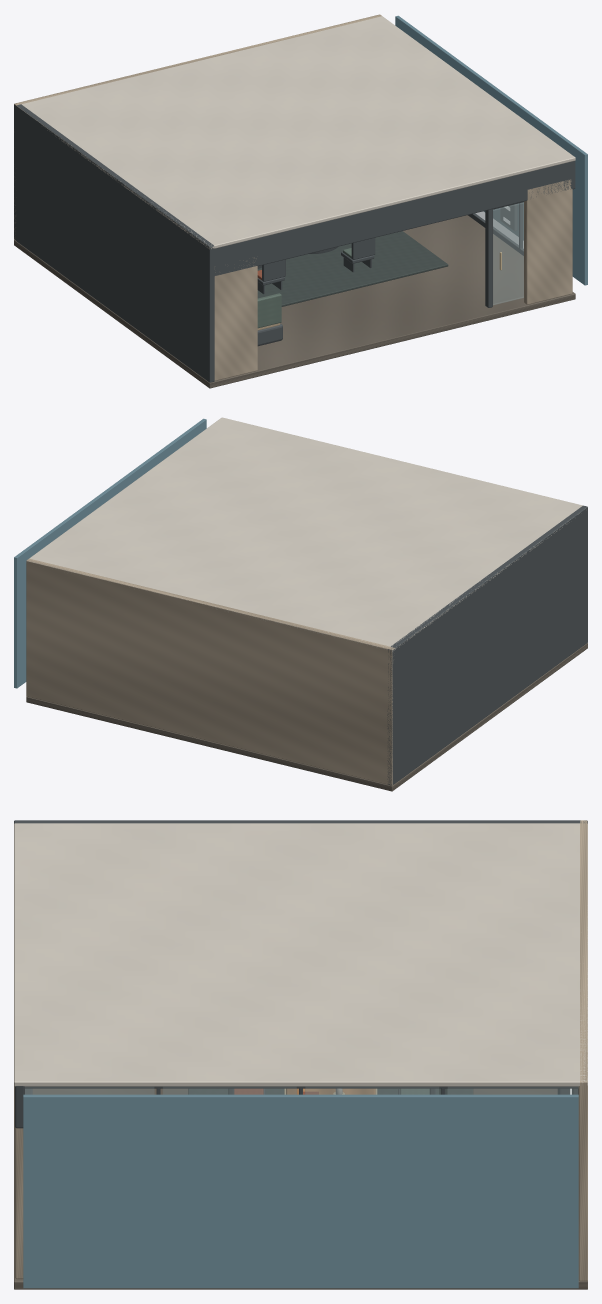
The picture shows the model from 3 angles, top to bottom: view 1: azimuth 30°, elevation 25°; view 2: azimuth 150°, elevation 25°; view 3: azimuth 270°, elevation 25°; orthographic projection. The views are drawn at different scales.
Parts seen in each view (by area): view 1: MeetingV2_Ceiling, MeetingV2_LeftWall, MeetingV2_Floor, MeetingV2_FrontLintel, MeetingV2_Rug, MeetingV2_FrontRightPier, MeetingV2_ExteriorCity, MeetingV2_FrontLeftPier, MeetingV2_Door, MeetingV2_WindowWall, MeetingV2_Bench, MeetingV2_BackWall (+3 smaller); view 2: MeetingV2_Ceiling, MeetingV2_BackWall, MeetingV2_LeftWall, MeetingV2_ExteriorCity, MeetingV2_Floor; view 3: MeetingV2_Ceiling, MeetingV2_ExteriorCity, MeetingV2_WindowWall, MeetingV2_BackWall, MeetingV2_Floor, MeetingV2_LeftWall, MeetingV2_FrontRightPier, MeetingV2_Rug.
Part boxes in pixels (x1,y1,x2,y2): MeetingV2_Ceiling: (17, 16, 575, 249); MeetingV2_LeftWall: (14, 104, 214, 382); MeetingV2_Floor: (14, 215, 575, 388); MeetingV2_FrontLintel: (206, 161, 575, 275); MeetingV2_Rug: (257, 231, 448, 306); MeetingV2_FrontRightPier: (524, 179, 572, 304); MeetingV2_ExteriorCity: (395, 15, 587, 285); MeetingV2_FrontLeftPier: (214, 257, 257, 380); MeetingV2_Door: (493, 202, 523, 305); MeetingV2_WindowWall: (468, 202, 523, 255); MeetingV2_Bench: (257, 293, 282, 346); MeetingV2_BackWall: (14, 14, 381, 240); MeetingV2_Ceiling: (26, 417, 582, 651); MeetingV2_BackWall: (26, 558, 394, 785); MeetingV2_LeftWall: (387, 505, 587, 785); MeetingV2_ExteriorCity: (14, 418, 206, 688); MeetingV2_Floor: (26, 643, 587, 791); MeetingV2_Ceiling: (14, 823, 587, 1086); MeetingV2_ExteriorCity: (23, 1094, 578, 1288); MeetingV2_WindowWall: (25, 1086, 578, 1094); MeetingV2_BackWall: (578, 820, 587, 1281); MeetingV2_Floor: (14, 1086, 587, 1289); MeetingV2_LeftWall: (14, 820, 587, 823); MeetingV2_FrontRightPier: (15, 1127, 23, 1279); MeetingV2_Rug: (188, 1088, 473, 1094).
Size of the model in its own units: 14.06 by 5 by 12.5.
Materials: 22 (11 with a texture image).
